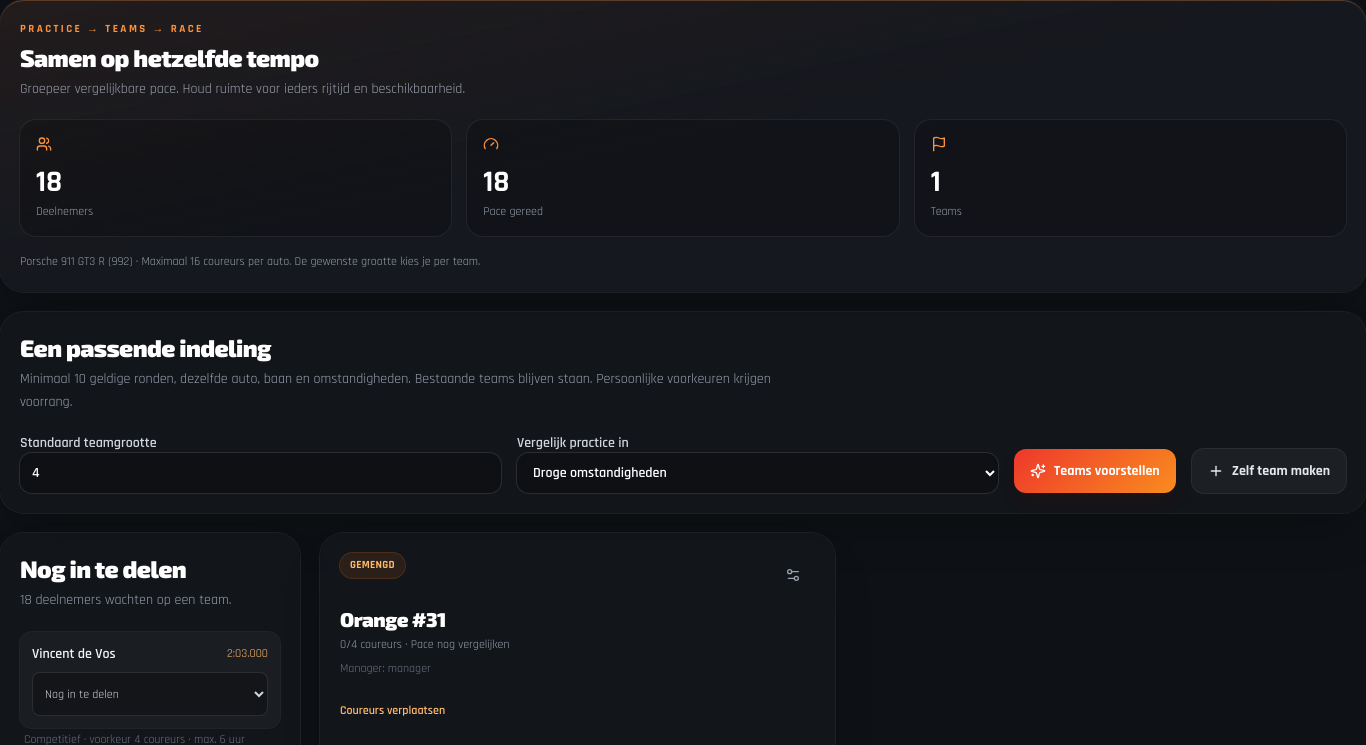
it: edits the capacity and manager of an existing team in an accessible dialog
Step 1. Click the button named "Instellingen Orange" → (793, 575), box x1=771 y1=553 x2=815 y2=597
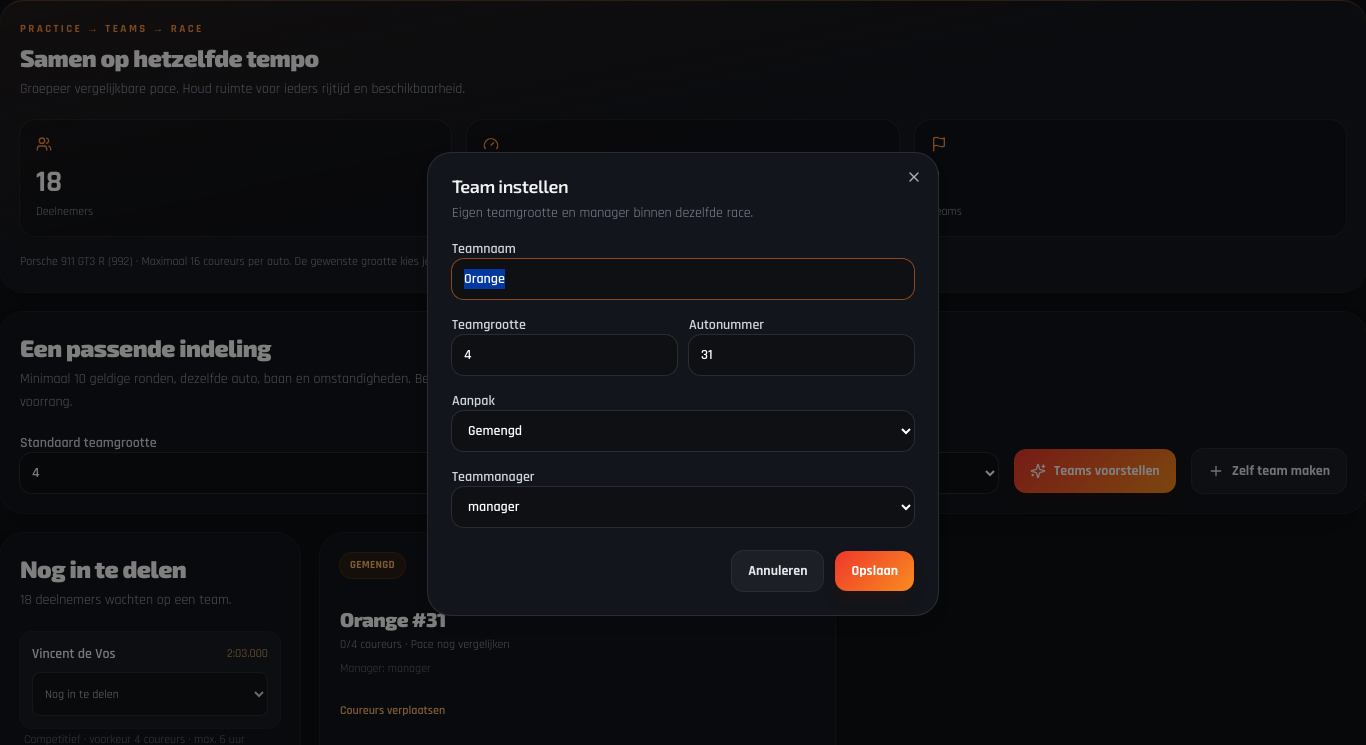
Step 2. Replace the text in the number field labelled "Teamgrootte" with "8" → (564, 355), box x1=452 y1=335 x2=677 y2=375
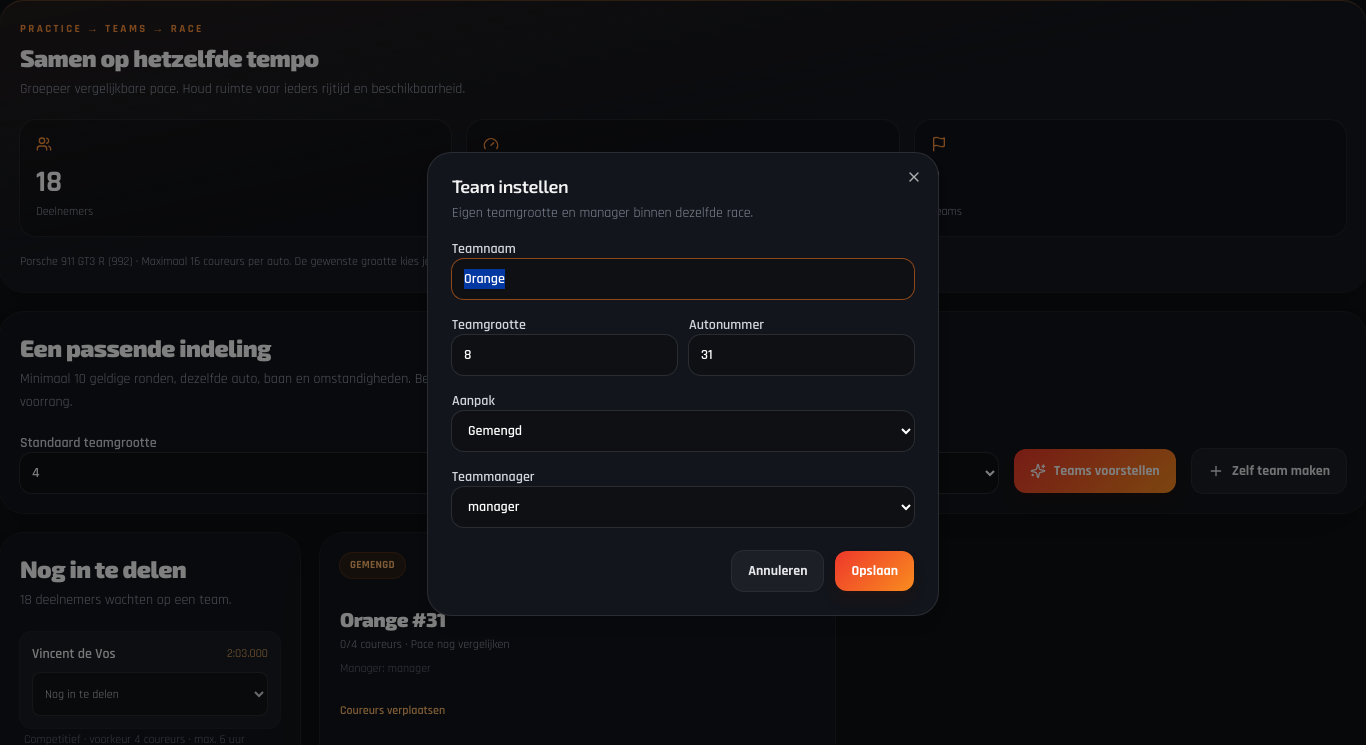
Step 3. Click the button "Opslaan" → (875, 571), box x1=836 y1=551 x2=914 y2=591
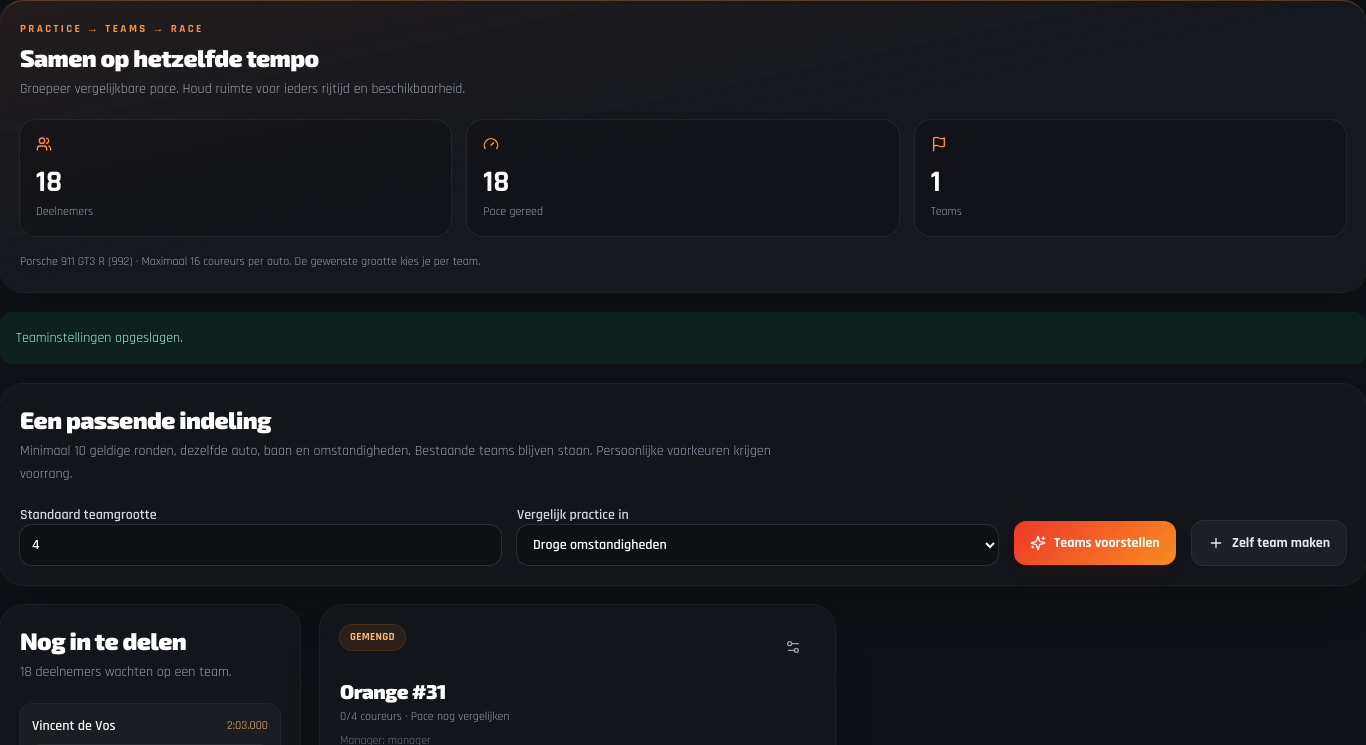
expect the text "Teaminstellingen opgeslagen." is shown: met, box x1=0 y1=312 x2=1365 y2=364
